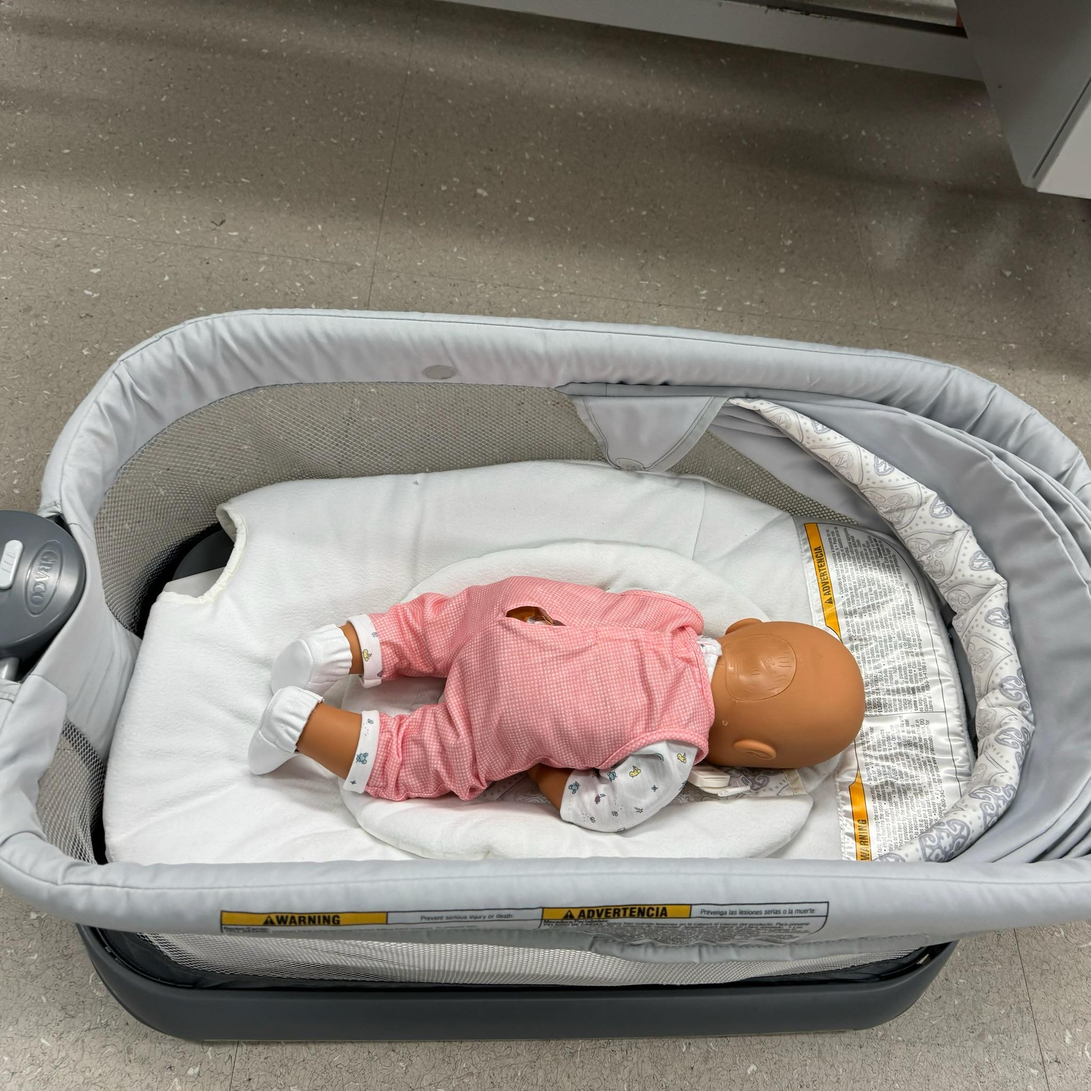baby: (243, 567, 873, 830)
